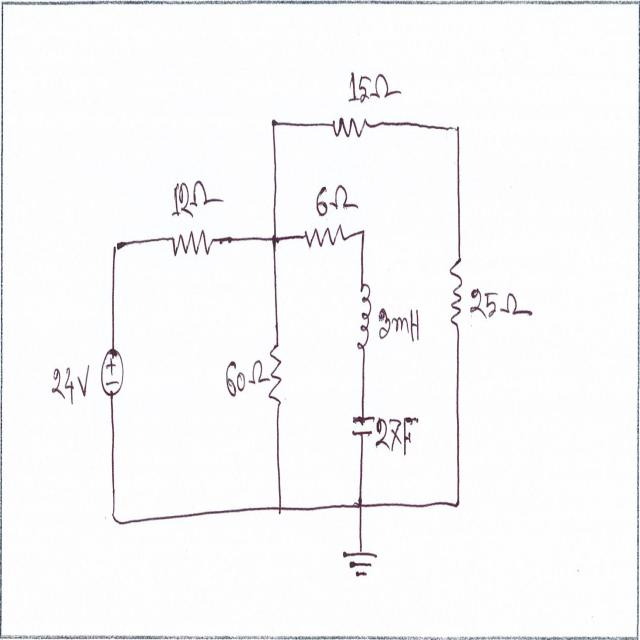capacitor: (344, 404, 377, 444)
ground: (341, 530, 385, 593)
inductor: (354, 279, 374, 356)
resistor: (168, 228, 219, 277), (302, 216, 348, 258), (448, 253, 468, 341), (330, 108, 371, 146), (268, 334, 288, 408)
voltage_source: (96, 334, 128, 418)
